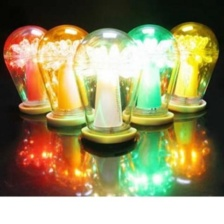light_bulb: (69, 24, 147, 146), (116, 21, 184, 126), (33, 22, 95, 131), (155, 19, 221, 114), (0, 23, 59, 117)
